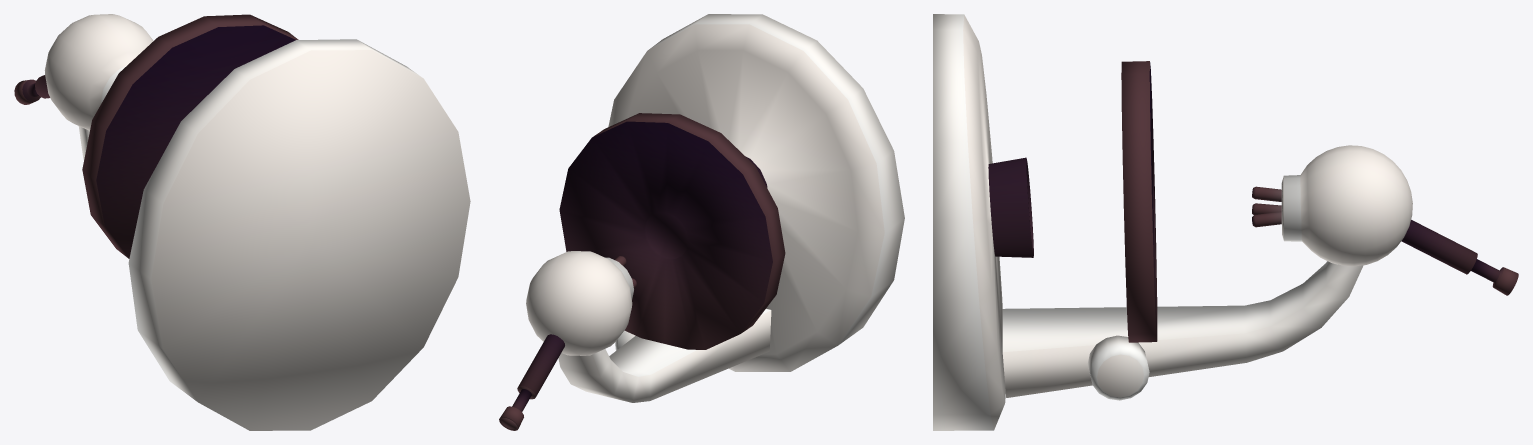
File: Microscope.fbx
3 views of the same model, side by side, from view 1: azimuth 30°, elevation 25°; view 2: azimuth 150°, elevation 25°; view 3: azimuth 270°, elevation 25° (orthographic). The views are drawn at different scales.
Visible parts, largest first — view 1: Microscope; view 2: Microscope; view 3: Microscope.
Part boxes in pixels (<box>): Microscope: <box>14,14,470,430</box>; Microscope: <box>499,14,904,430</box>; Microscope: <box>933,14,1518,430</box>.
Bounding box in the file's own units: 155 × 177 × 243.
